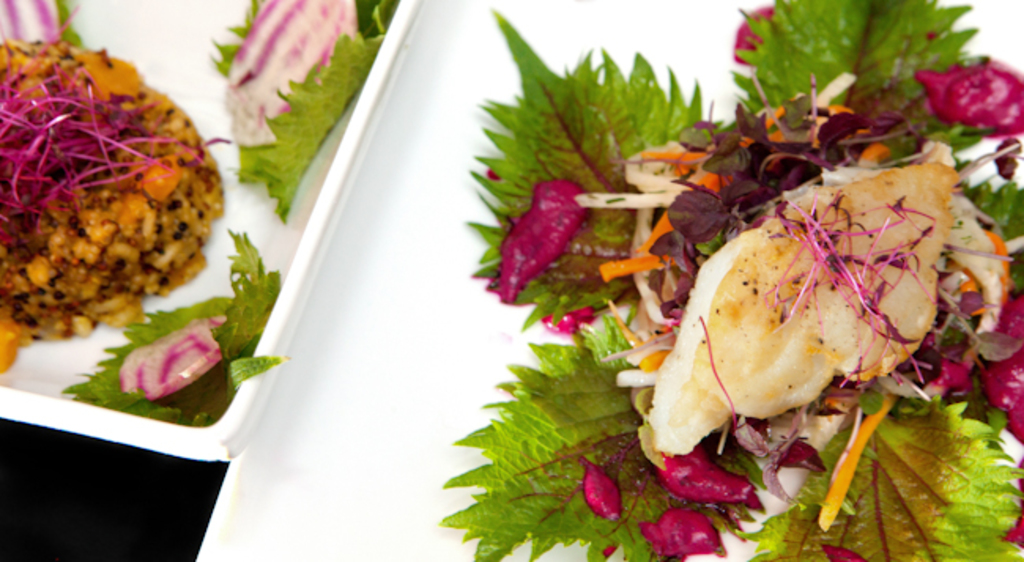salad: (460, 0, 1022, 560)
